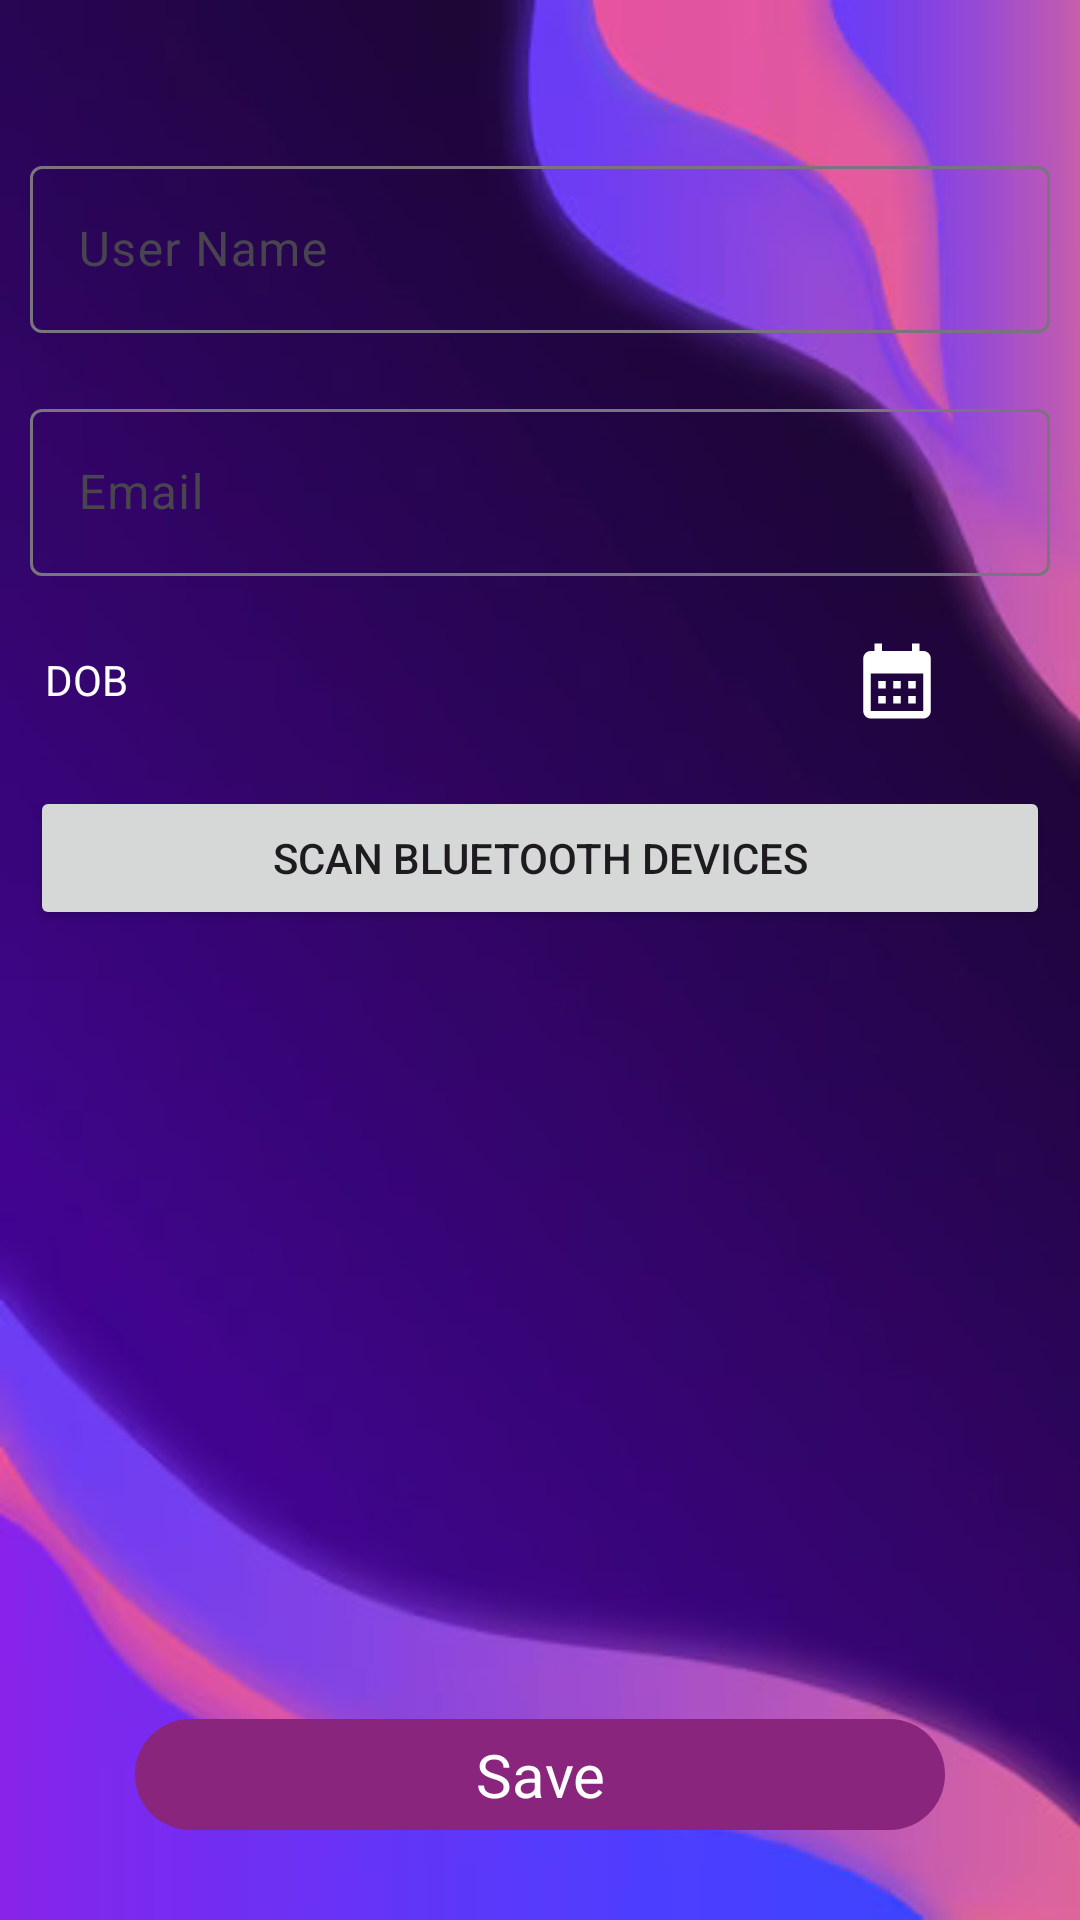

Named icons in this screenshot (1080x1920) and their centers, (x,y):
cal: (897,681)
